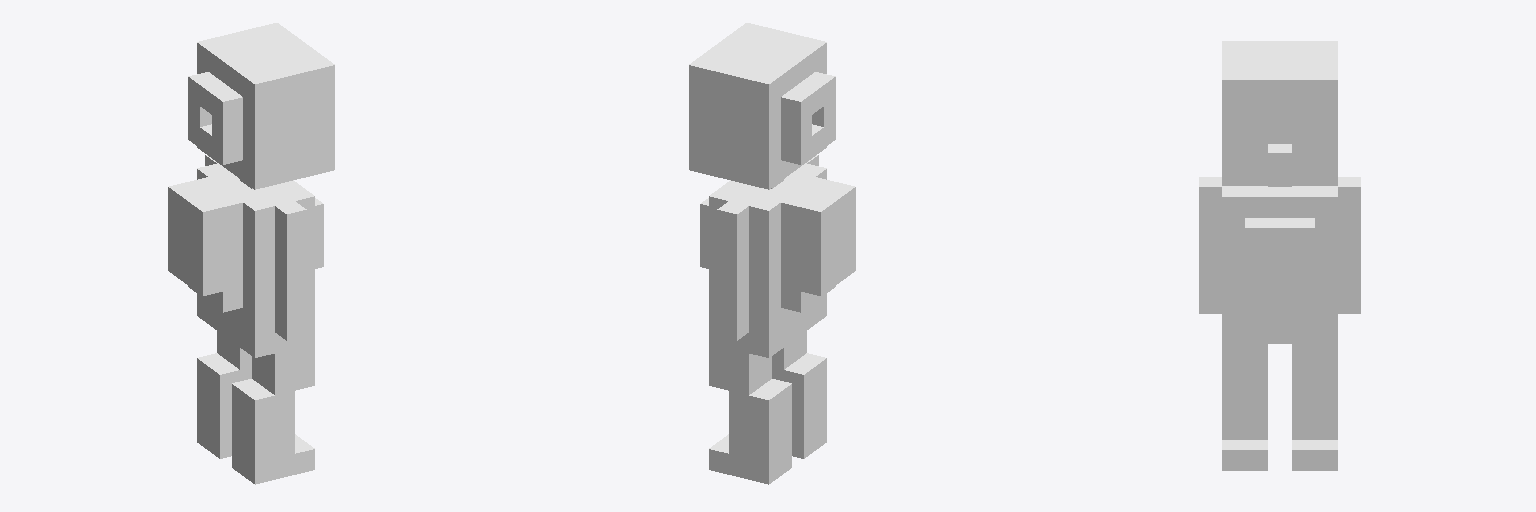
File: Female1.1.obj
3 views of the same model, side by side, from view 1: azimuth 30°, elevation 25°; view 2: azimuth 150°, elevation 25°; view 3: azimuth 270°, elevation 25° (orthographic).
Visible parts, largest first — view 1: Female1.1; view 2: Female1.1; view 3: Female1.1.
Part boxes in pixels (x1,y1,x2,y2): Female1.1: (168, 23, 334, 484); Female1.1: (689, 23, 855, 484); Female1.1: (1199, 41, 1360, 470).
Size of the model in its own units: 7 by 19 by 7.